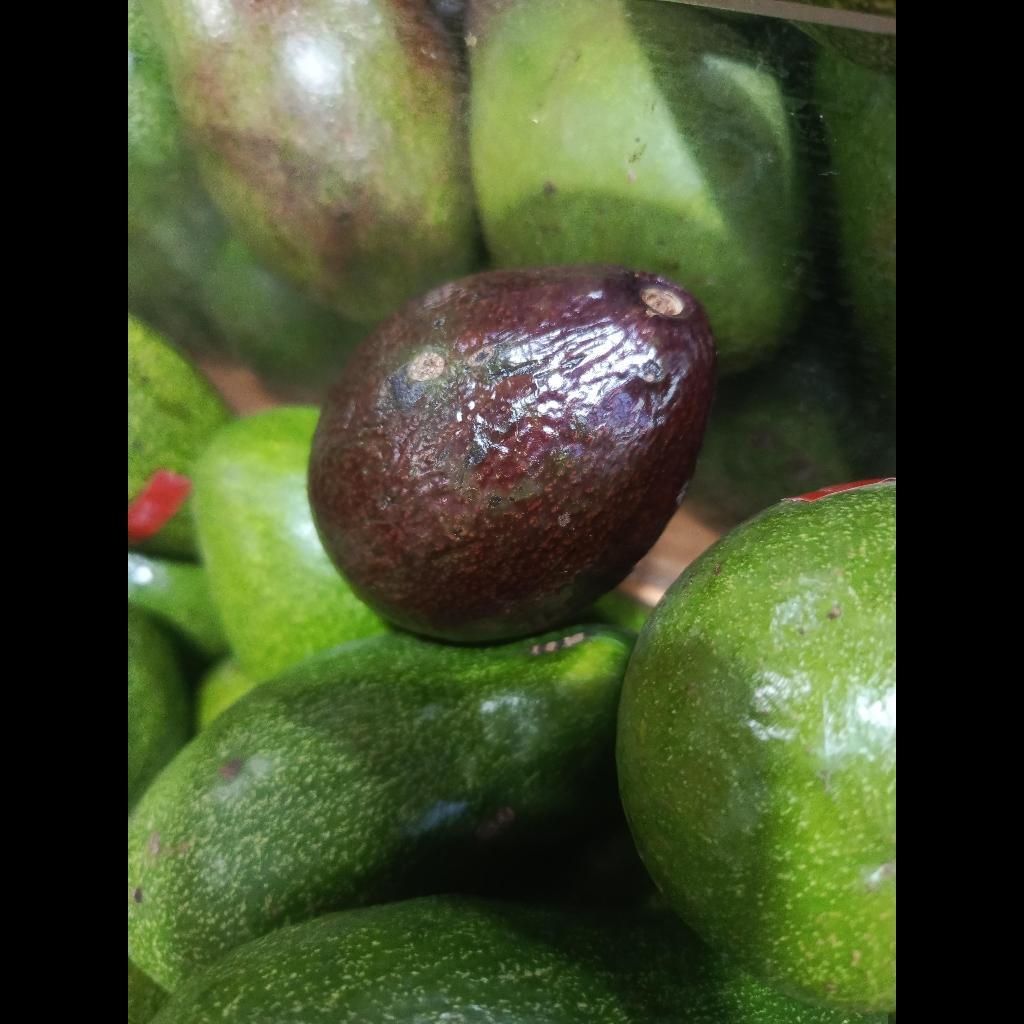rona: (308, 265, 716, 640)
